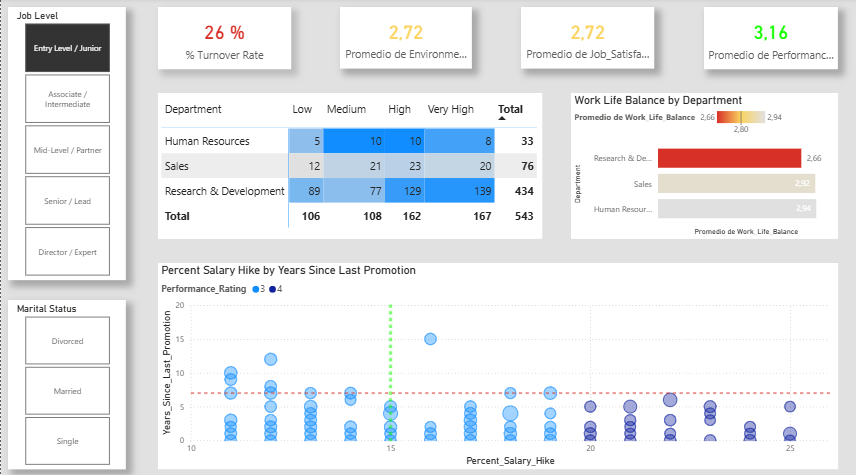

The dashboard page shown, as its layout file describes it:
{"tool":"powerbi","page":{"name":"Well-being and performance","canvas":[1280,720],"ordinal":2},"visuals":[{"type":"slicer","fields":{"Values":["Dim_JobDetails.Job_Level_Description"]},"box":[10.9,14,176.2,408.5],"z":0},{"type":"slicer","fields":{"Values":["Dim_Employee.Marital_Status"]},"box":[10.9,450.6,176.2,252.6],"z":1},{"type":"group","id":"g1","title":"Grupo 1","box":[234.5,13.4,1015.8,92.6],"z":6},{"type":"clusteredBarChart","title":"Work Life Balance by Department","fields":{"Category":["Dim_JobDetails.Department"],"Y":["Avg(Dim_Satisfaction.Work_Life_Balance)"]},"box":[851.5,141.9,398.8,218.1],"z":7},{"type":"pivotTable","fields":{"Columns":["Dim_Satisfaction.Job_Satisfaction_Description"],"Rows":["Dim_JobDetails.Department"],"Values":["_Measures.Total Employees"]},"box":[234.5,141.9,573.6,218.1],"z":8},{"type":"scatterChart","title":"Percent Salary Hike by Years Since Last Promotion","fields":{"Series":["Dim_PerformancePay.Performance_Rating"],"Size":["Avg(Dim_PerformancePay.Monthly_Income)"],"X":["Dim_PerformancePay.Percent_Salary_Hike"],"Y":["Dim_Tenure.Years_Since_Last_Promotion"]},"box":[234.5,395.9,1015.8,307.7],"z":9},{"type":"card","fields":{"Values":["Avg(Dim_Satisfaction.Job_Satisfaction)"]},"box":[777.4,13.4,199.3,92.3],"z":2000,"group":"g1"},{"type":"card","fields":{"Values":["Avg(Dim_Satisfaction.Environment_Satisfaction)"]},"box":[506.7,13.4,197.4,92.3],"z":3000,"group":"g1"},{"type":"card","fields":{"Values":["Avg(Dim_PerformancePay.Performance_Rating)"]},"box":[1050,13.4,200.3,92.6],"z":4000,"group":"g1"},{"type":"card","title":"Total Empoyees","fields":{"Values":["_Measures.% Turnover Rate"]},"box":[234.5,13.4,198.8,92.6],"z":5000,"group":"g1"}]}

Visuals, with their boxes in screenshot pixels (x1, y1, x2, y2), scaled from the page's 1280x720 canvas onto the 856x475 screenshot:
slicer - Dim_JobDetails.Job_Level_Description: 7, 9, 125, 279
slicer - Dim_Employee.Marital_Status: 7, 297, 125, 464
"Grupo 1" group: 157, 9, 836, 70
"Work Life Balance by Department" clusteredBarChart: 569, 94, 836, 238
pivotTable - Dim_Satisfaction.Job_Satisfaction_Description x Dim_JobDetails.Department: 157, 94, 540, 238
"Percent Salary Hike by Years Since Last Promotion" scatterChart: 157, 261, 836, 464
card - Avg(Dim_Satisfaction.Job_Satisfaction): 520, 9, 653, 70
card - Avg(Dim_Satisfaction.Environment_Satisfaction): 339, 9, 471, 70
card - Avg(Dim_PerformancePay.Performance_Rating): 702, 9, 836, 70
"Total Empoyees" card: 157, 9, 290, 70
